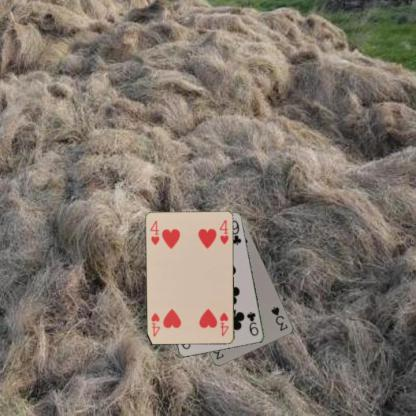3s: (269, 304, 289, 332)
4h: (217, 310, 230, 338), (148, 219, 161, 246)
9c: (244, 309, 260, 338)
